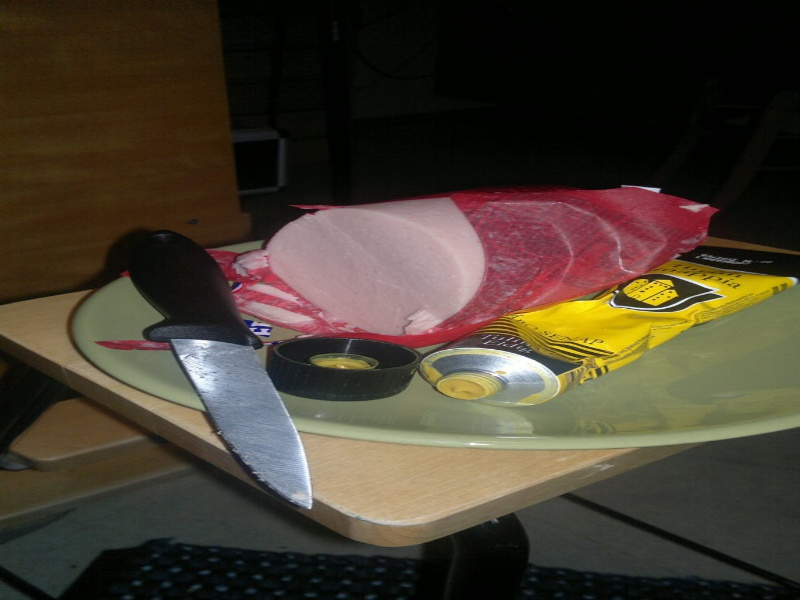knife: (119, 224, 316, 516)
